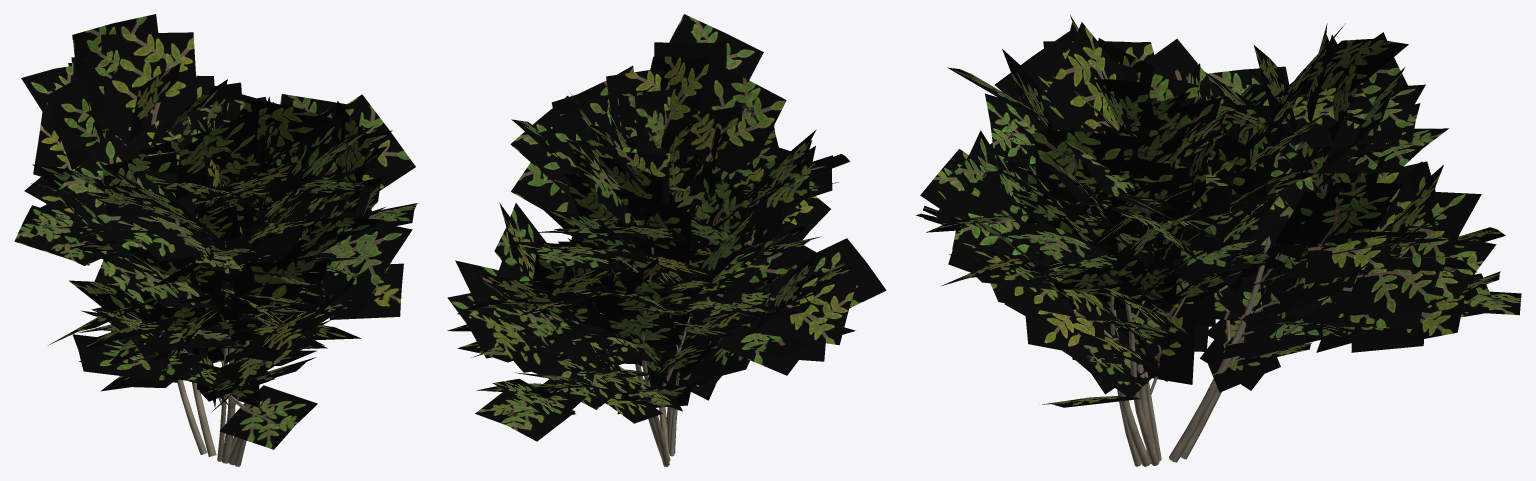
File: bez_cerny_2.glb
3 renders of one model, left to right at view 1: azimuth 30°, elevation 25°; view 2: azimuth 150°, elevation 25°; view 3: azimuth 270°, elevation 25°, orthographic. The views are drawn at different scales.
Visible parts, largest first — view 1: bez_cerny_2; view 2: bez_cerny_2; view 3: bez_cerny_2.
Boxes of the visible parts, x1,y1,x2,y2 form: bez_cerny_2: (14, 14, 417, 466); bez_cerny_2: (447, 14, 886, 466); bez_cerny_2: (916, 15, 1521, 466).
Size of the model in its own units: 2.89 by 3.1 by 3.9.
Materials: 2 (2 with a texture image).
